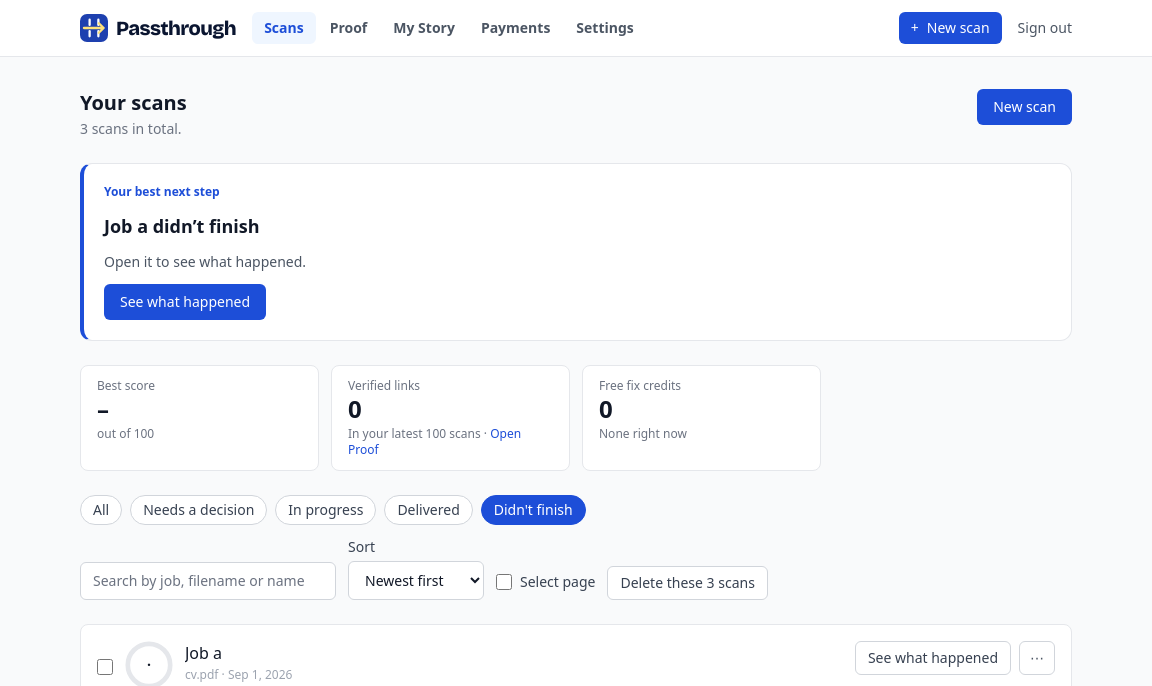
Scenario: dashboard — delete the scans the filters show › scans still being processed are kept, and the result says so
This screenshot has width=1152, height=686.
Click the button "Delete these 3 scans" at point(688, 583), box [608,566,768,600]
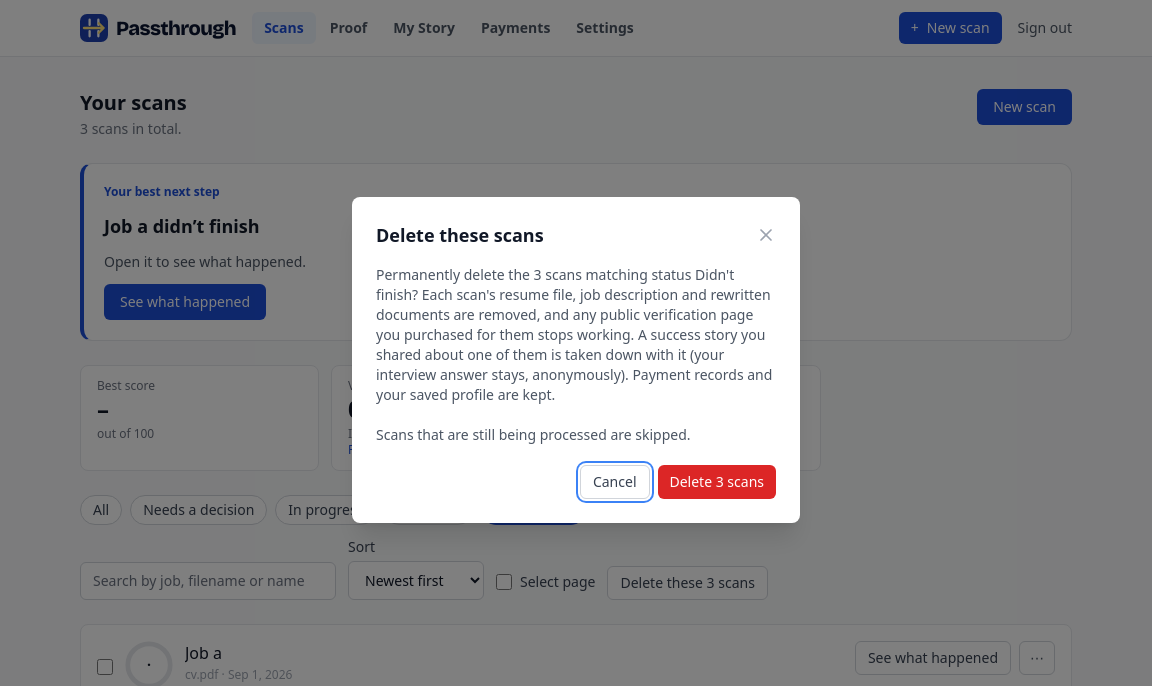
Click the button "Delete 3 scans" at point(717, 482), box [658,465,776,499]
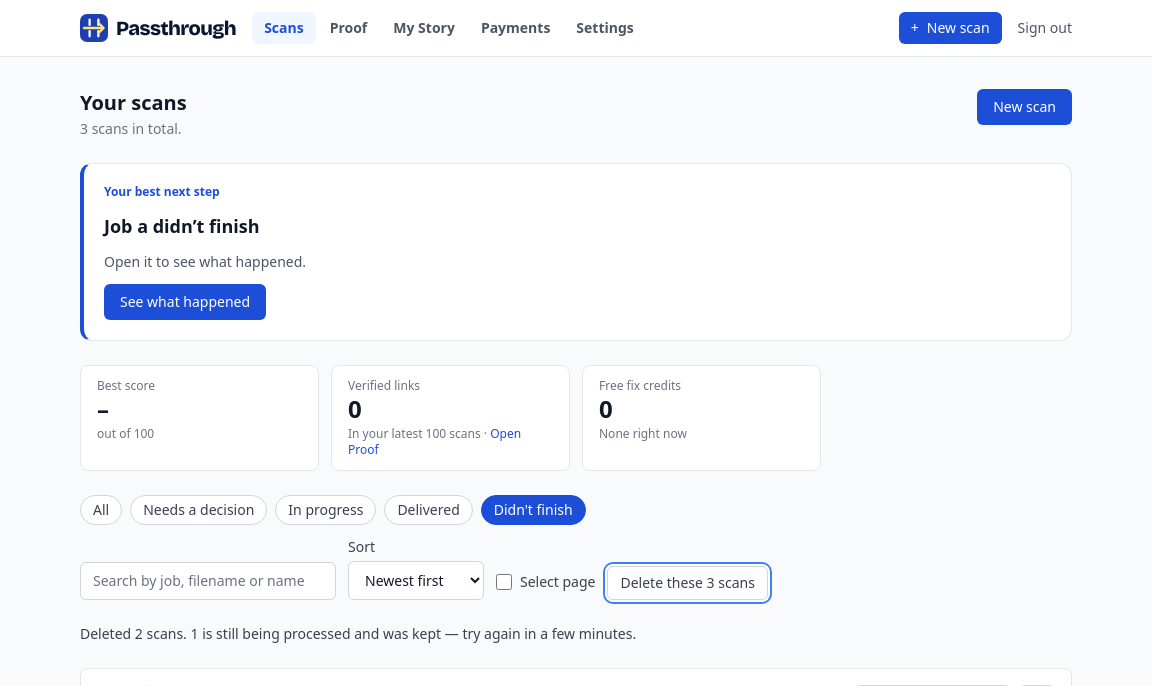
Now the text "Deleted 2 scans." shows "1 is still being processed and was kept", box [187,624,636,643]
